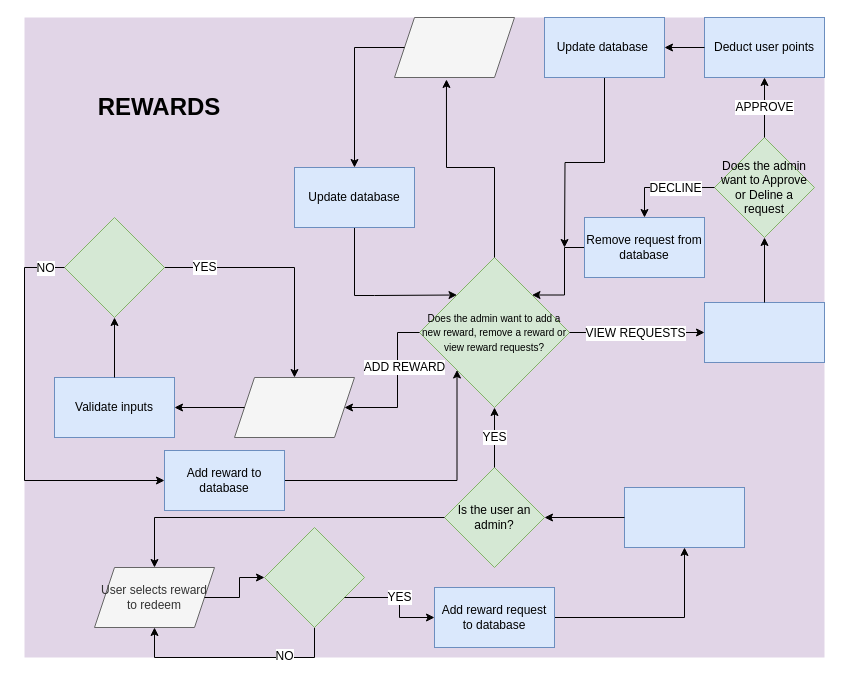
Image size: 842x683. Some labels were removed from this diagram. Here are the shapes that lost their labels. From the top down, the centre of each, then its label:
At pixel 454 47: "Admin selects reward to delete".
At pixel 114 267: "Are there errors in inputs?".
At pixel 764 332: "Admin view reward requests".
At pixel 294 407: "Admin enters new reward details".
At pixel 684 517: "Navigate to 'Rewards' page".
At pixel 314 577: "Does user have enough points?".
